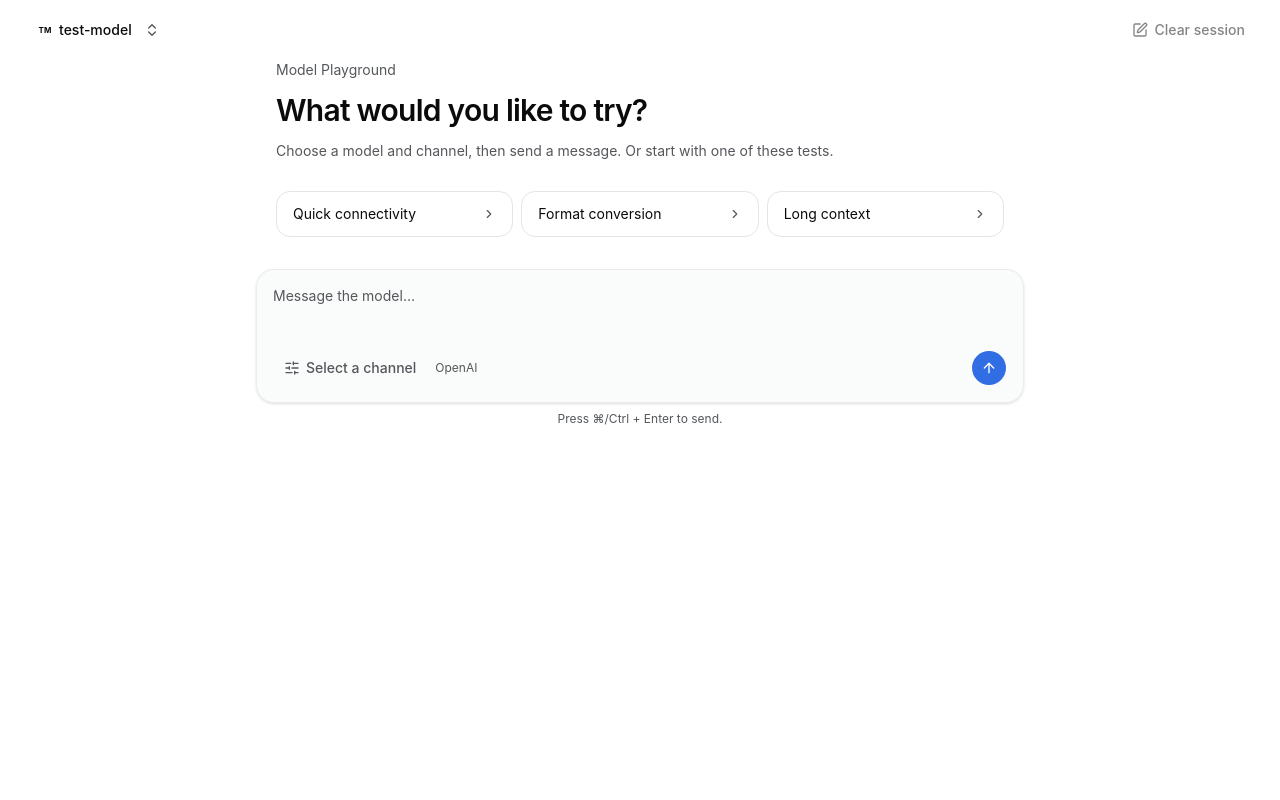
Test: chat playground › uses a suggestion as an editable draft and opens settings for a missing channel
The image size is (1280, 800).
Click the button "Quick connectivity": (395, 214) x1=276 y1=191 x2=513 y2=237
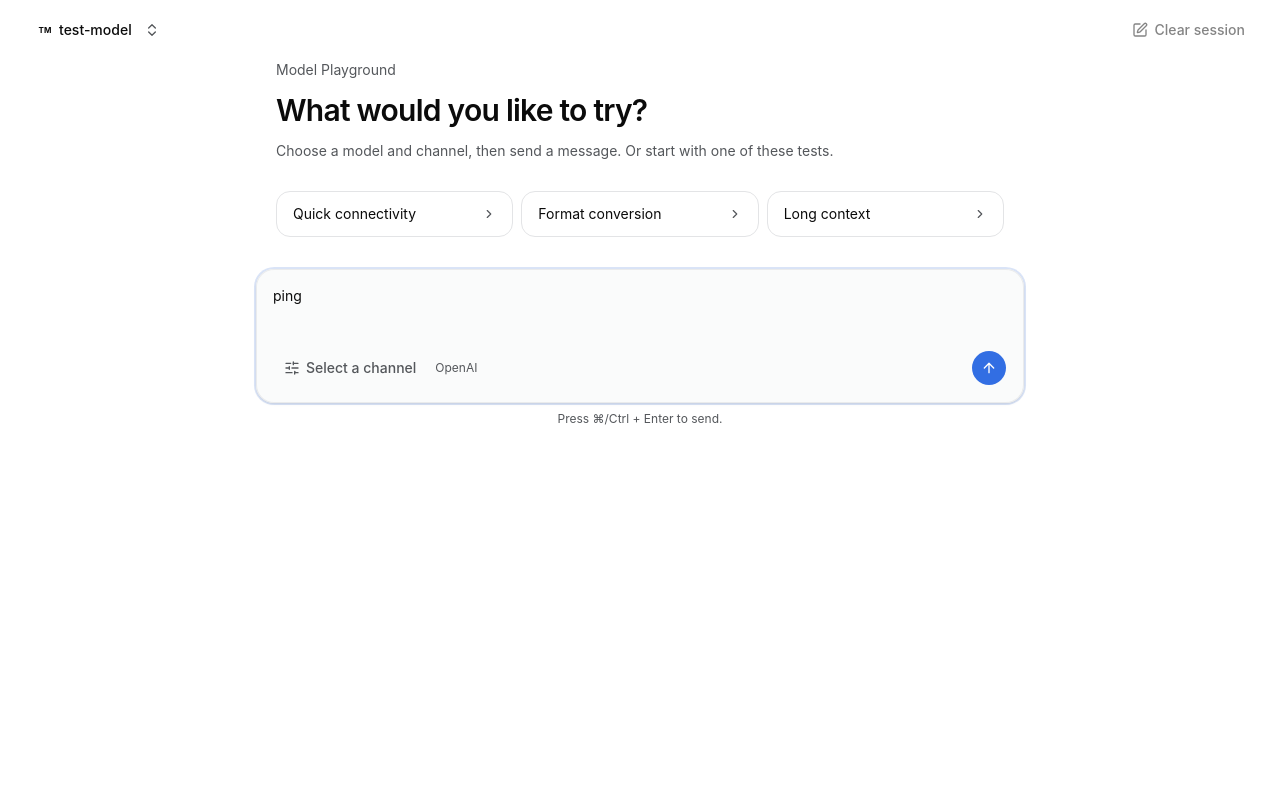
Now the text box named "Prompt" is not empty, box x1=273 y1=286 x2=1007 y2=342
Click the button named "Send": (989, 368) x1=971 y1=350 x2=1007 y2=386
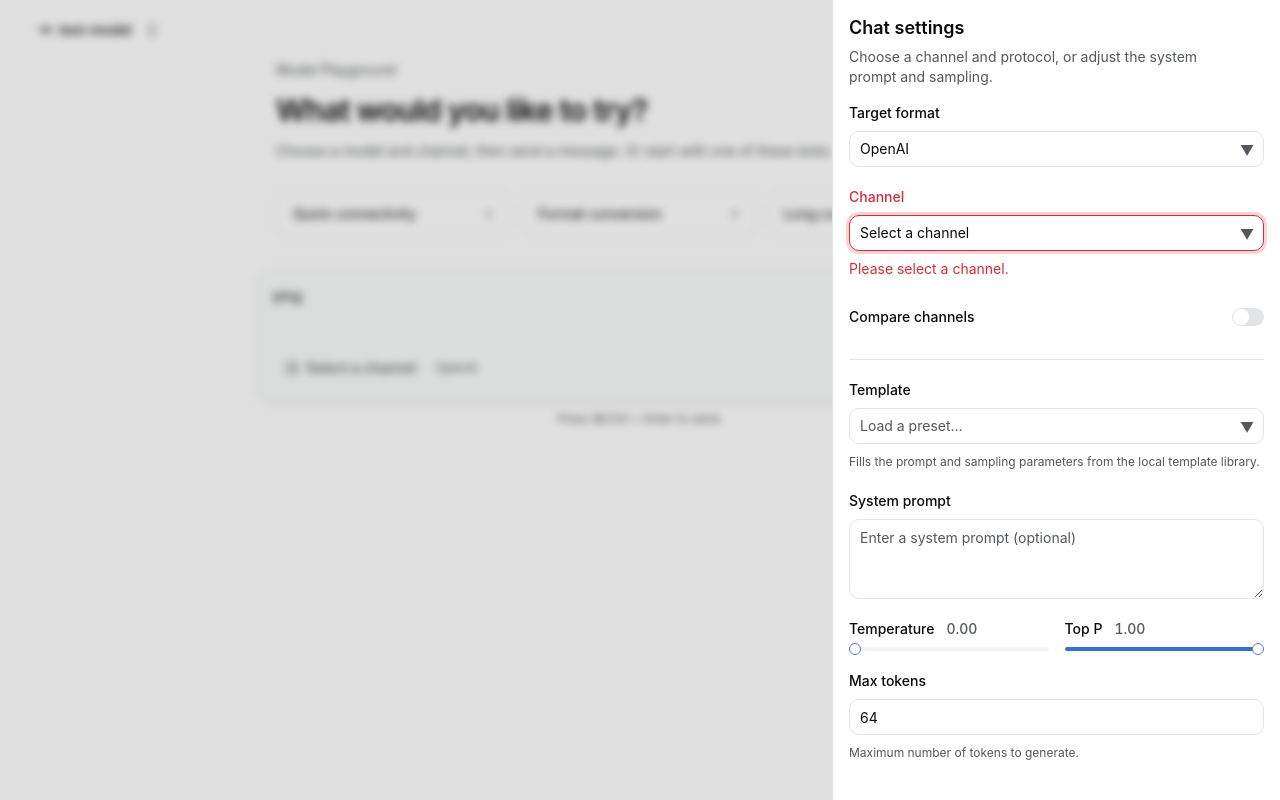
Now the dialog "Chat settings" is shown, box x1=832 y1=0 x2=1279 y2=799
Now the text "Please select a channel." is shown, box x1=849 y1=260 x2=1009 y2=277
